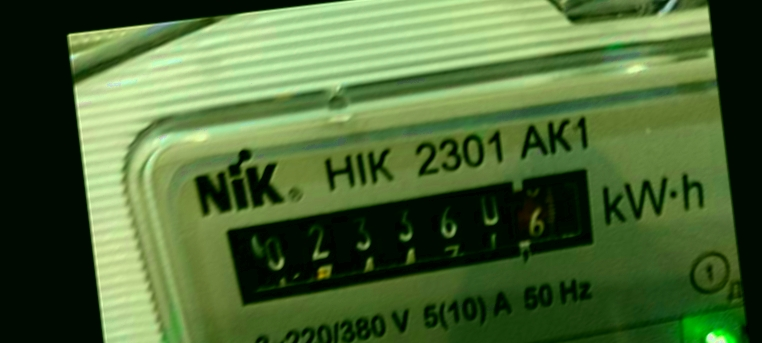0: (258, 231, 288, 276), (475, 190, 502, 230)
2: (301, 220, 331, 262)
3: (347, 213, 373, 255), (389, 206, 415, 246)
6: (430, 200, 461, 244), (523, 204, 549, 242)
screen: (200, 154, 612, 319)
